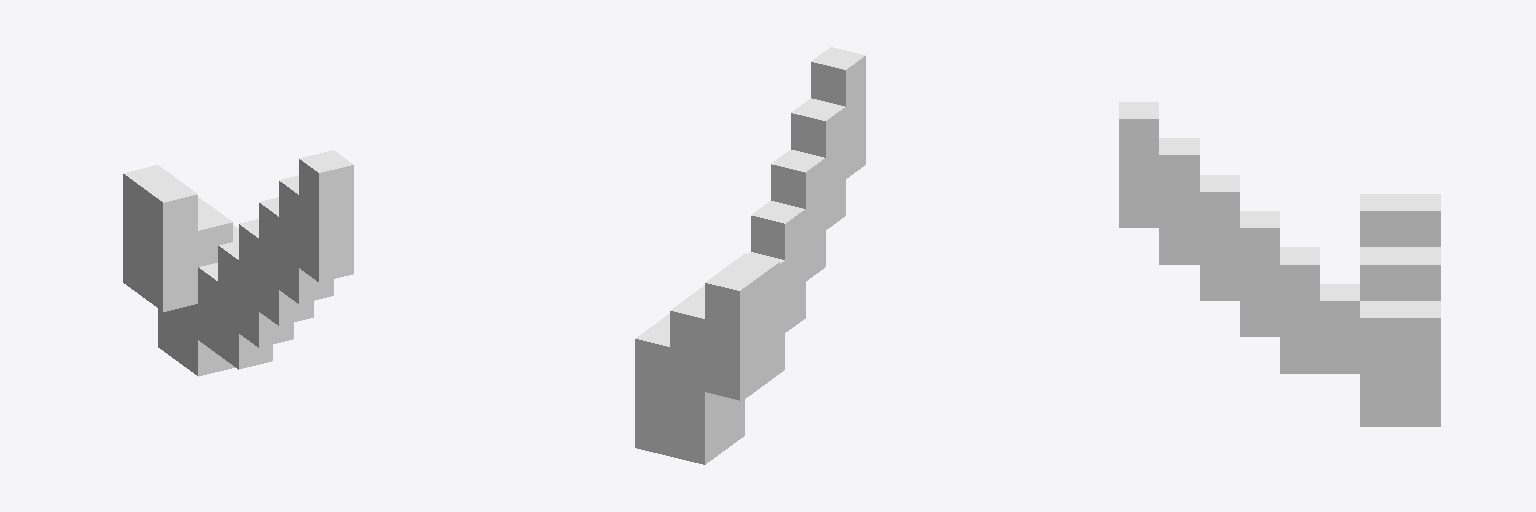
File: piratelefthand.obj
3 renders of one model, left to right at view 1: azimuth 30°, elevation 25°; view 2: azimuth 150°, elevation 25°; view 3: azimuth 270°, elevation 25°, orthographic.
Visible parts, largest first — view 1: object 1; view 2: object 1; view 3: object 1.
Part boxes in pixels (bbox=[...]): object 1: bbox=[123, 150, 353, 376]; object 1: bbox=[635, 47, 865, 464]; object 1: bbox=[1119, 102, 1440, 426].
Size of the model in its own units: 0.3 by 0.8 by 0.8.